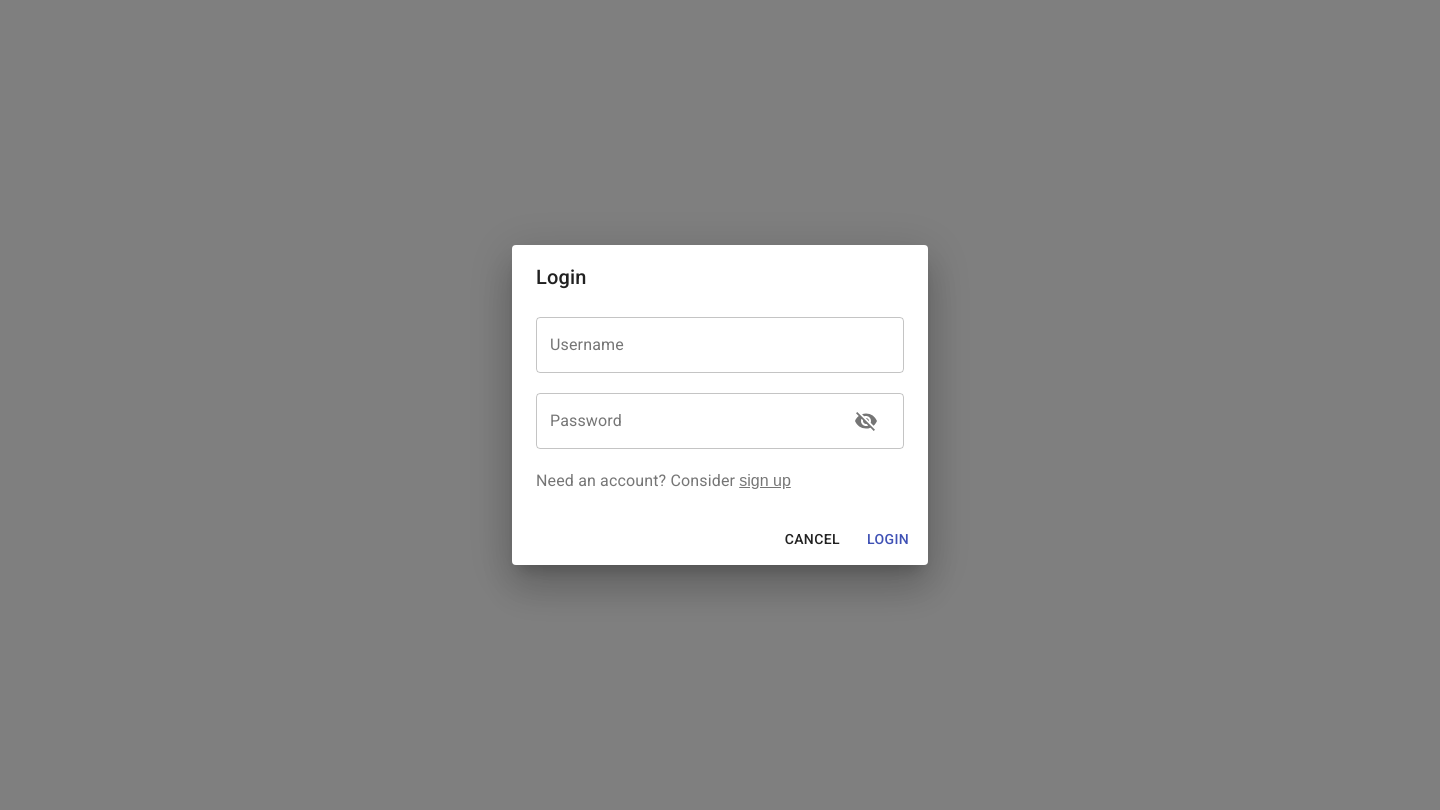
Test: <Login /> › should set errors on form fields
Type "marklar" into the field with test id "username". click: point(720, 345)
box: [536,317,904,373]
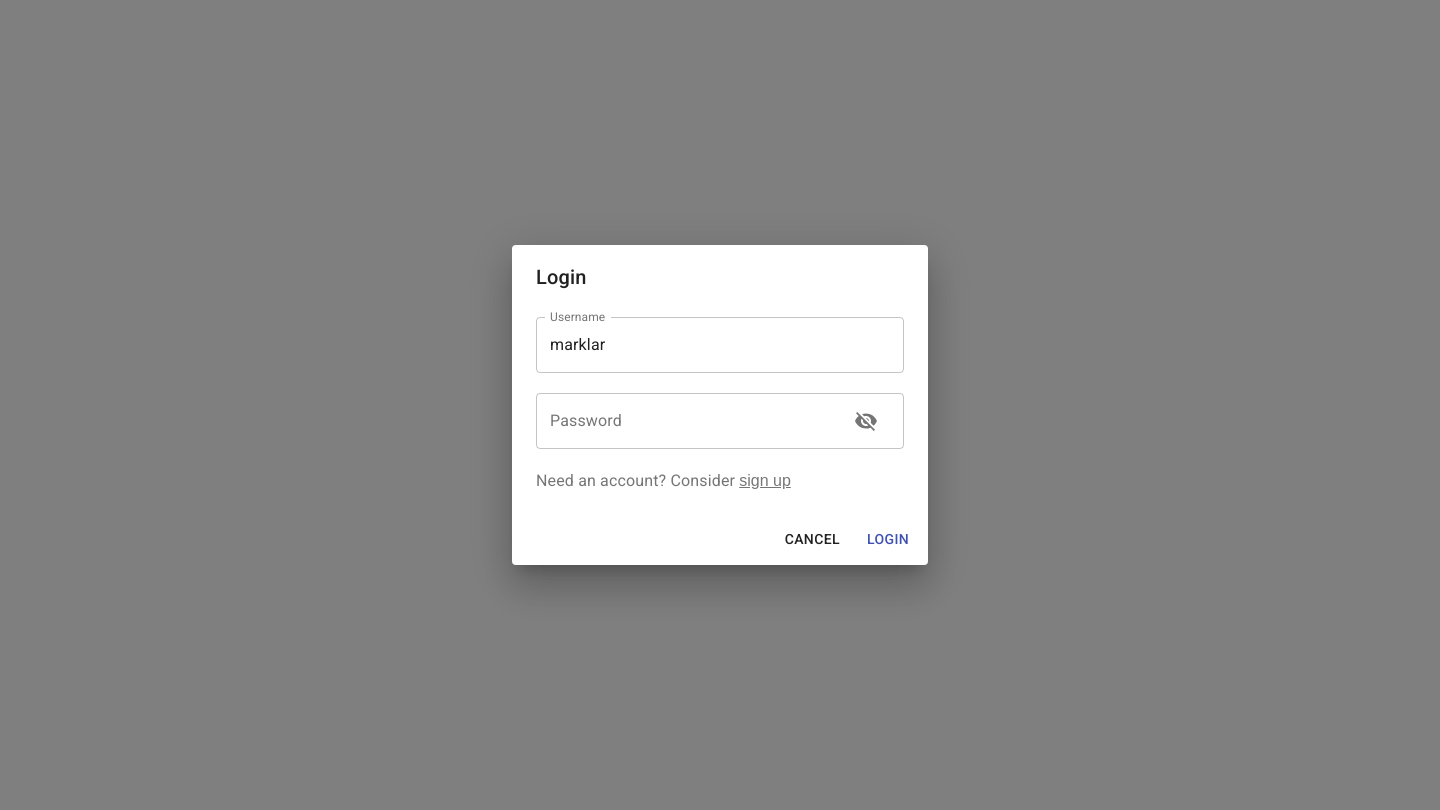
Type "foobar" into the password field with test id "password". click: point(685, 421)
box: [536,393,834,449]
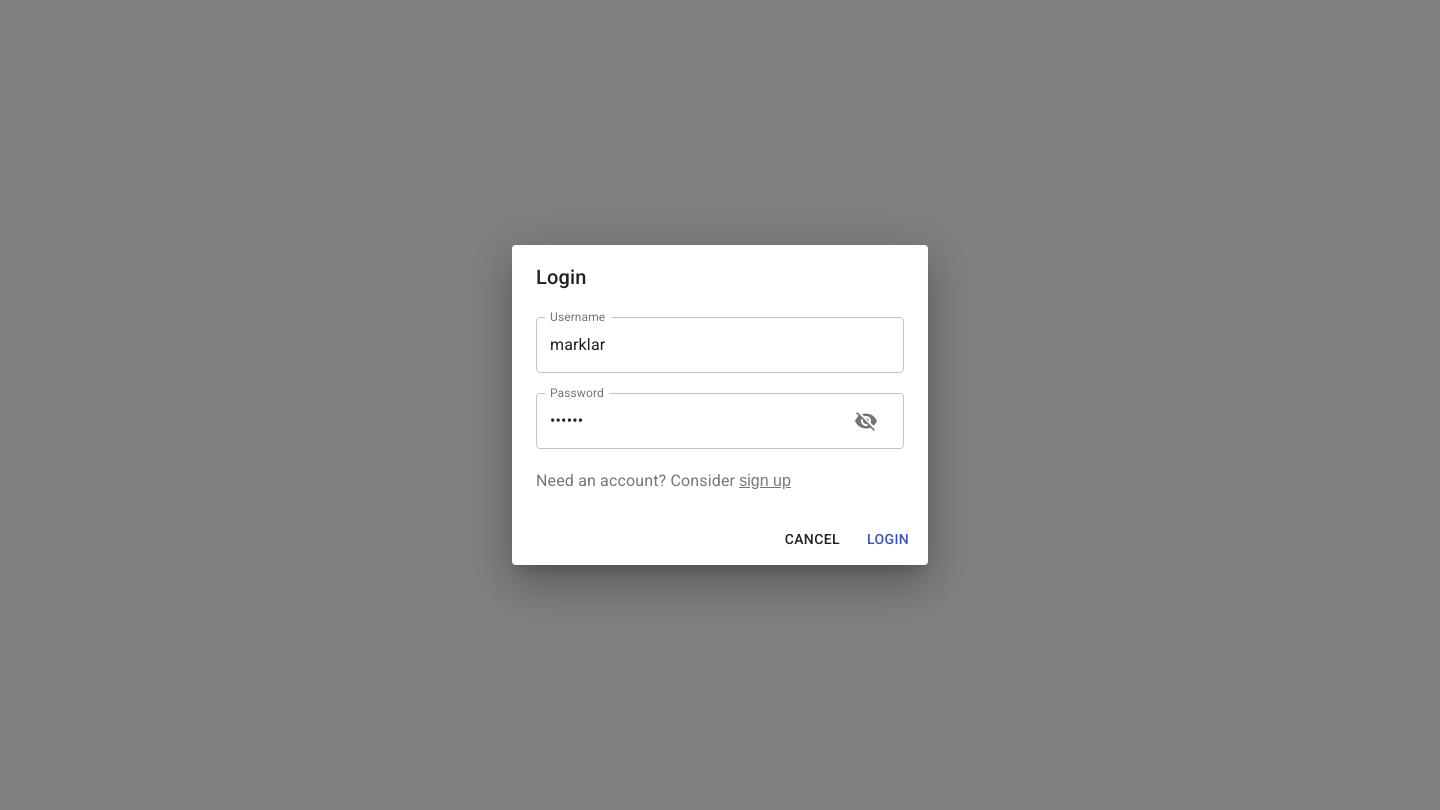
Click the button with test id "loginButton". click: point(888, 539)
box: [856,521,920,557]
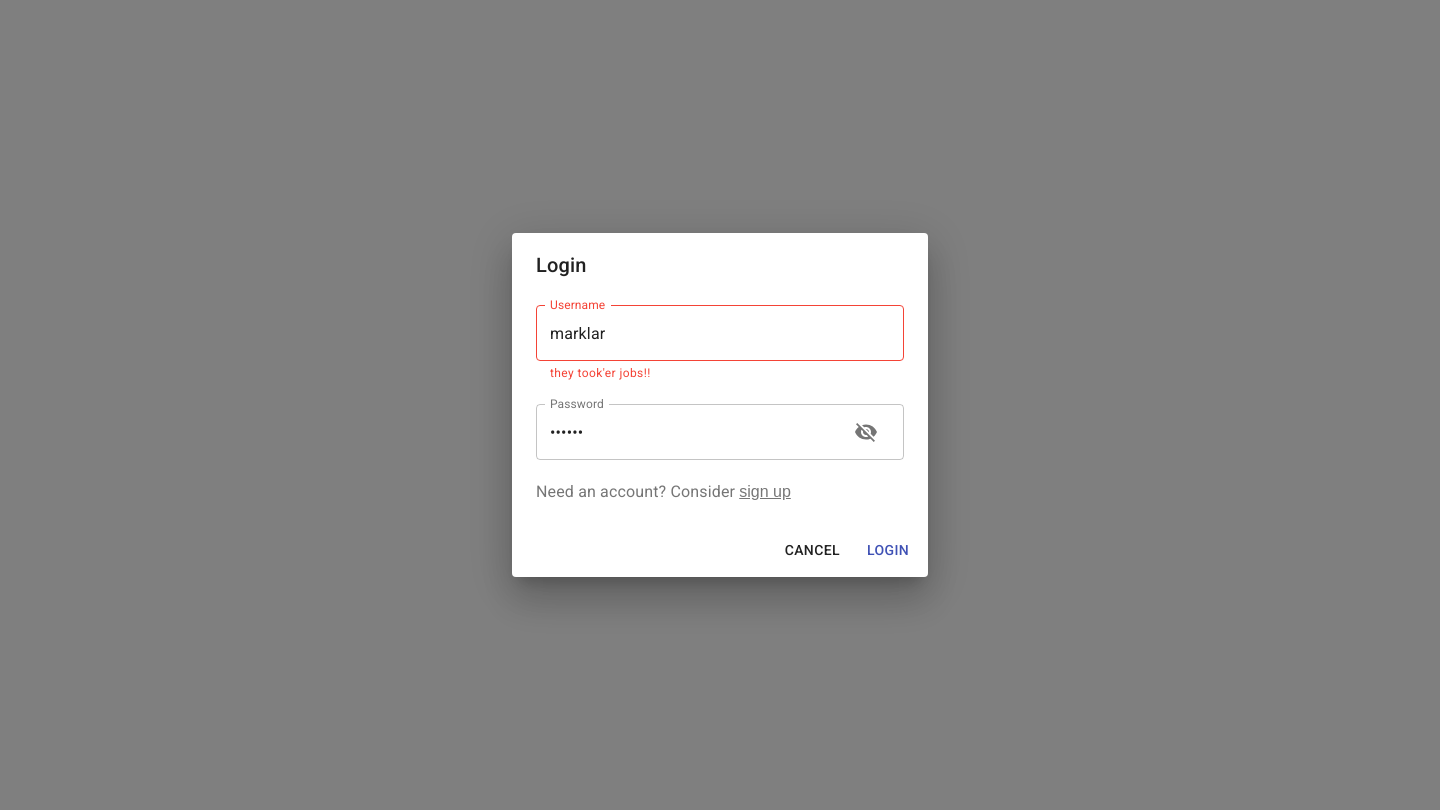
Expected: the text "they took'er jobs!!" is shown, [550,366,651,380]
